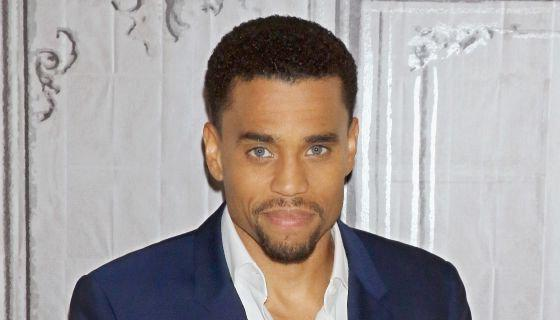Sober: (227, 82, 341, 245)
